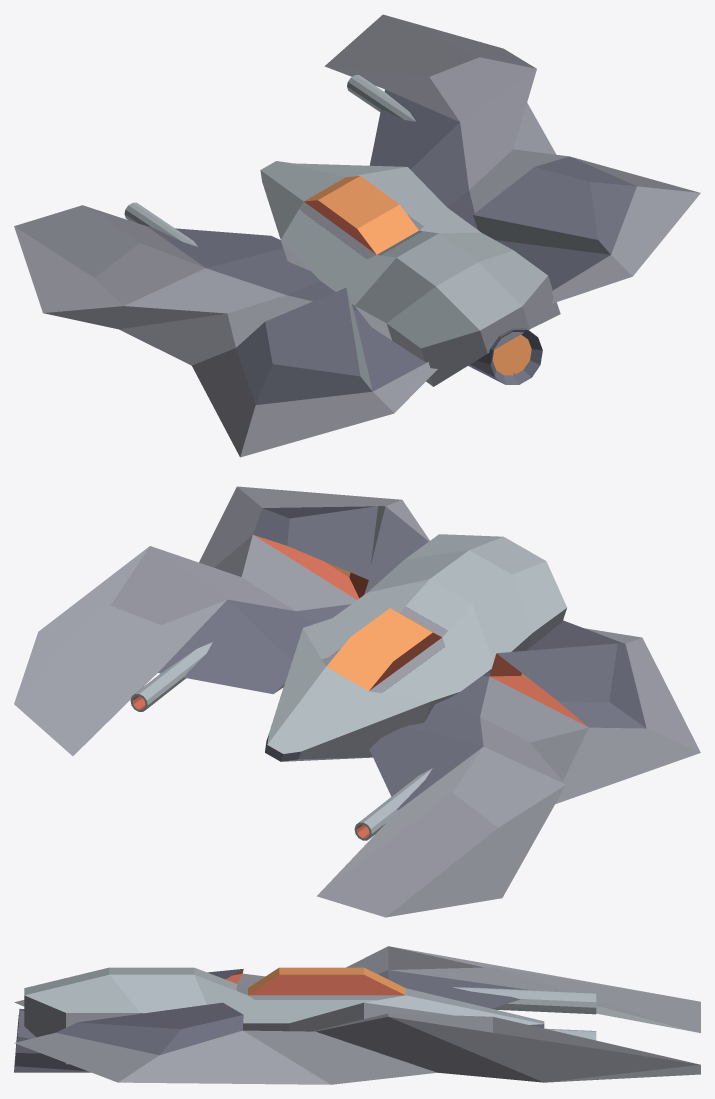
Rendered from flare3d.glb.
3 views of the same model, one above another, from view 1: azimuth 30°, elevation 25°; view 2: azimuth 150°, elevation 25°; view 3: azimuth 270°, elevation 25° (orthographic). The views are drawn at different scales.
Visible parts, largest first — view 1: wingR_3, body_0, engine_1, cannonR_5; view 2: wingR_3, body_0, cannonR_5; view 3: wingR_3, body_0, cannonR_5, engine_1.
Boxes of the visible parts, <box> form: wingR_3: <box>14,14,700,457</box>; body_0: <box>260,161,560,386</box>; engine_1: <box>468,328,542,384</box>; cannonR_5: <box>124,75,415,246</box>; wingR_3: <box>14,486,700,917</box>; body_0: <box>265,534,567,761</box>; cannonR_5: <box>130,642,432,840</box>; wingR_3: <box>14,946,700,1084</box>; body_0: <box>24,967,544,1064</box>; cannonR_5: <box>453,987,596,1040</box>; engine_1: <box>14,1008,90,1072</box>.
Size of the model in its own units: 3.46 by 1.39 by 4.13.
4 materials, 4 textured.
